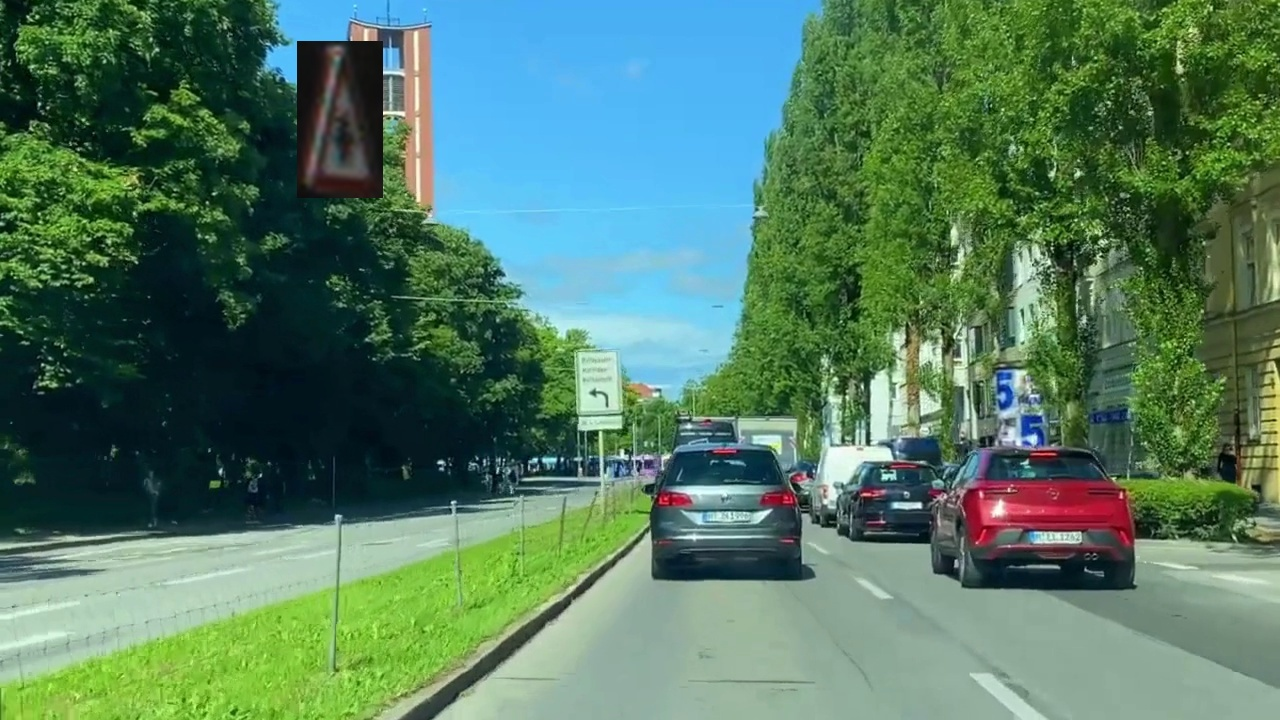Right-of-way: (297, 41, 383, 198)
